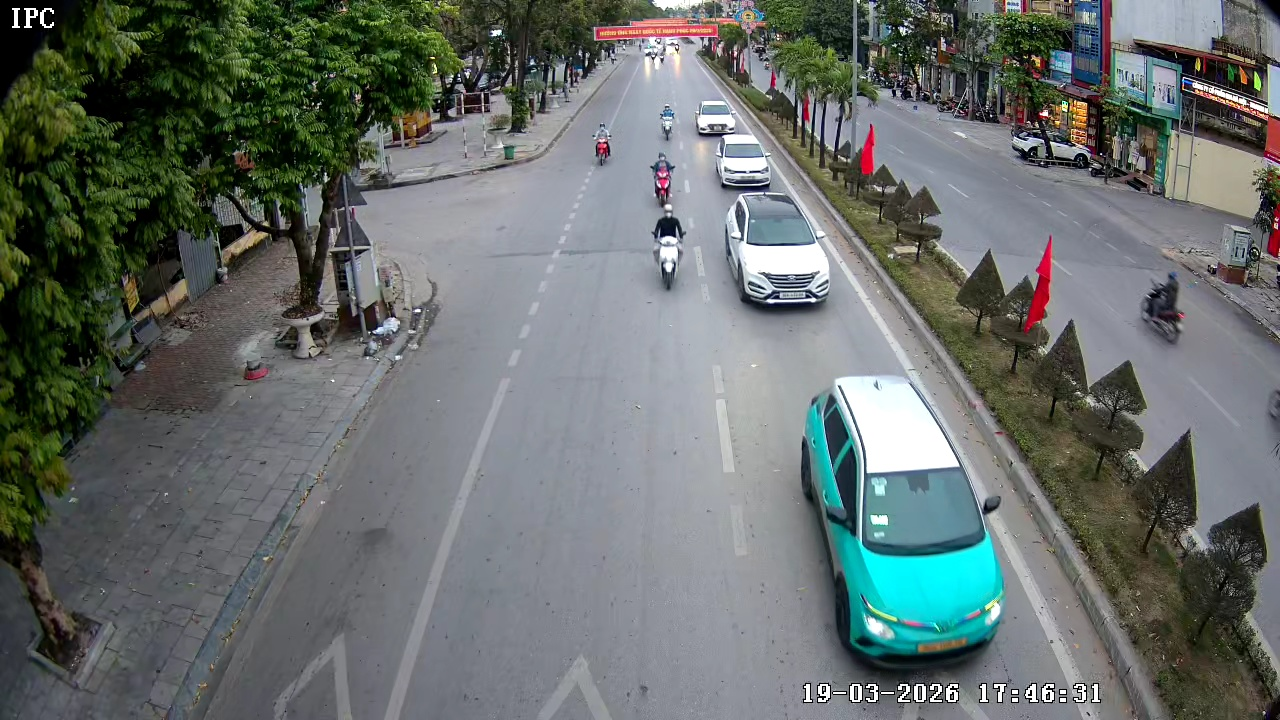car: (799, 374, 1004, 658), (721, 191, 831, 308), (714, 131, 771, 191), (693, 99, 736, 136)
motorbike: (651, 201, 688, 291), (1141, 271, 1186, 344), (649, 150, 677, 208), (592, 120, 616, 168), (658, 102, 678, 142)
